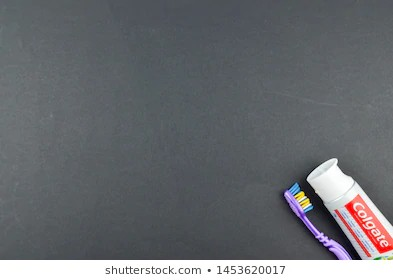toothbrush: (269, 179, 330, 257)
